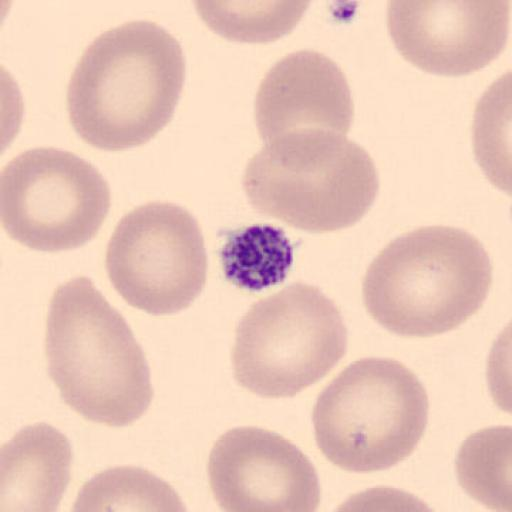Platelet: (216, 222, 300, 294)
RBC: (42, 274, 154, 427), (65, 18, 188, 154), (359, 222, 496, 339), (240, 128, 382, 234), (310, 353, 431, 475), (229, 279, 350, 401), (103, 198, 210, 318), (1, 143, 114, 256), (252, 46, 356, 156), (204, 423, 324, 512), (384, 0, 512, 79), (0, 419, 74, 512), (66, 464, 194, 512), (188, 0, 316, 45), (452, 421, 511, 512), (471, 68, 512, 198), (320, 484, 452, 512), (485, 319, 512, 420), (0, 64, 26, 162), (0, 0, 20, 41)
